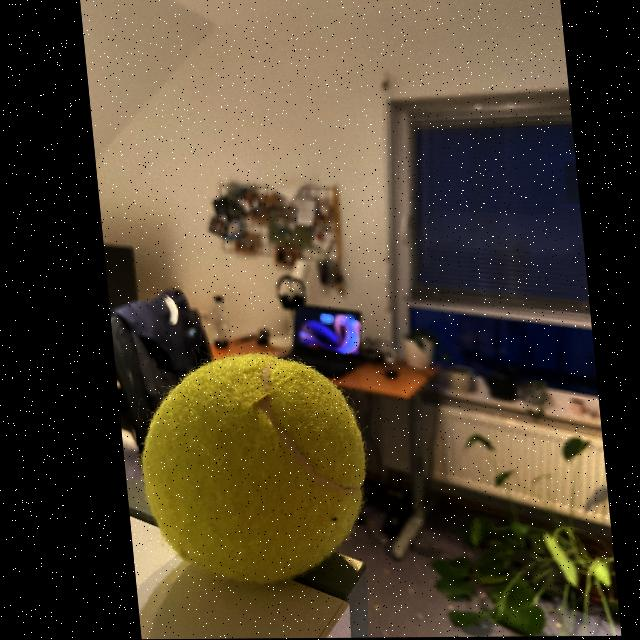Tennisball: (142, 354, 366, 583)
